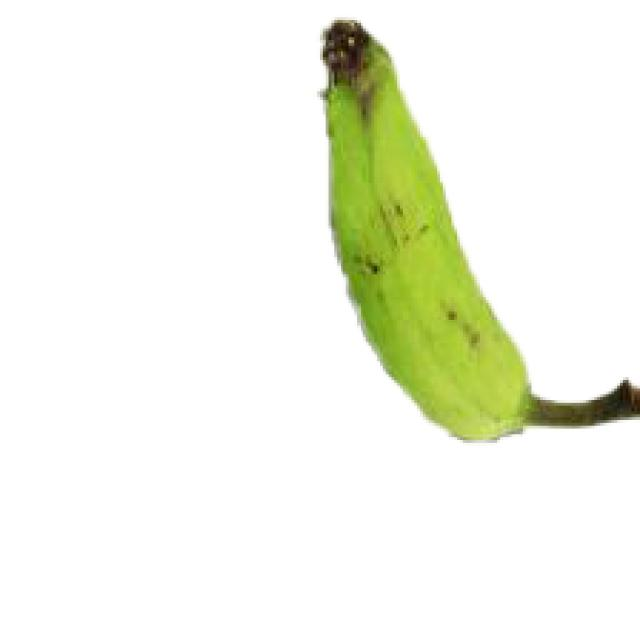fresh-banana: (314, 14, 532, 443)
